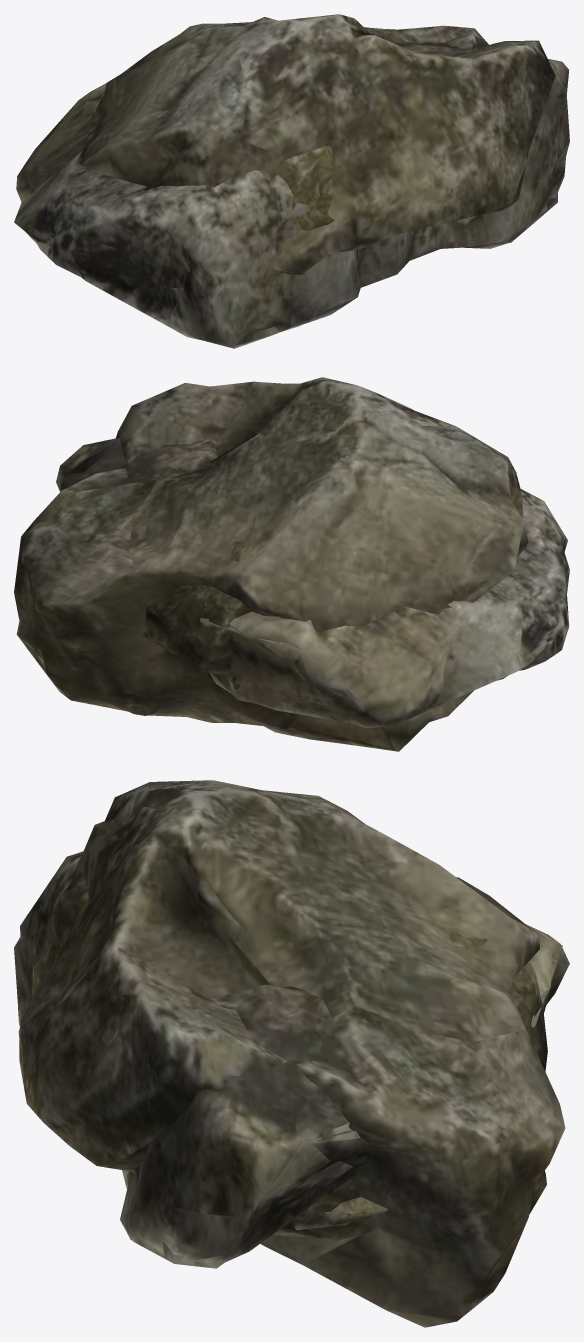
Rendered from rock_moss_set_02.glb.
The picture shows the model from 3 angles, top to bottom: view 1: azimuth 30°, elevation 25°; view 2: azimuth 150°, elevation 25°; view 3: azimuth 270°, elevation 25°; orthographic projection. The views are drawn at different scales.
Visible parts, largest first — view 1: d, c, pb, e, pc; view 2: d, c, pb, e, pc; view 3: d, c, pb, e, pc, b.
Part boxes in pixels (left/top/right/bottom): d: left=75, top=14, right=555, bottom=274; c: left=15, top=41, right=569, bottom=348; pb: left=14, top=42, right=557, bottom=346; e: left=277, top=145, right=334, bottom=275; pc: left=315, top=146, right=332, bottom=214; d: left=14, top=377, right=528, bottom=751; c: left=56, top=437, right=569, bottom=728; pb: left=58, top=447, right=568, bottom=727; e: left=142, top=541, right=251, bottom=673; pc: left=143, top=585, right=234, bottom=666; d: left=18, top=780, right=565, bottom=1327; c: left=14, top=851, right=569, bottom=1266; pb: left=127, top=945, right=562, bottom=1268; e: left=43, top=872, right=547, bottom=1238; pc: left=59, top=901, right=536, bottom=1240; b: left=293, top=1197, right=388, bottom=1229.
Size of the model in its own units: 2.19 by 1.31 by 1.55.
Materials: 1 (1 with a texture image).
